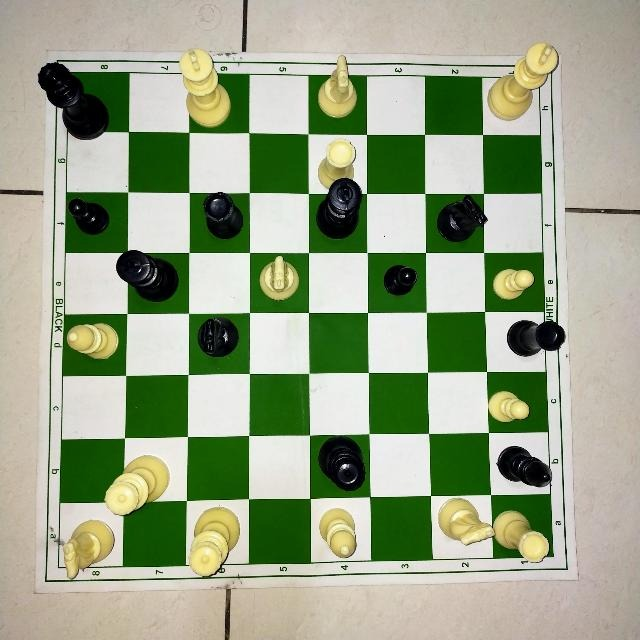black-bishop: (490, 442, 551, 492)
black-king: (116, 249, 179, 300), (312, 198, 366, 254)
black-knight: (424, 195, 485, 254), (197, 316, 239, 359)
black-pawn: (378, 256, 428, 311), (66, 197, 128, 239)
black-queen: (66, 76, 128, 128)
black-rook: (188, 194, 254, 251), (305, 436, 366, 493), (485, 318, 547, 374)
white-bishop: (65, 320, 124, 374), (315, 505, 371, 558)
white-king: (188, 76, 250, 133), (482, 81, 540, 133)
white-knight: (61, 502, 122, 566), (432, 497, 493, 553), (309, 79, 366, 137), (260, 255, 301, 302)
white-pawn: (492, 383, 548, 431), (486, 263, 543, 310)
white-queen: (127, 438, 185, 503), (189, 506, 249, 564)
white-rook: (501, 504, 551, 556), (310, 147, 364, 183)
